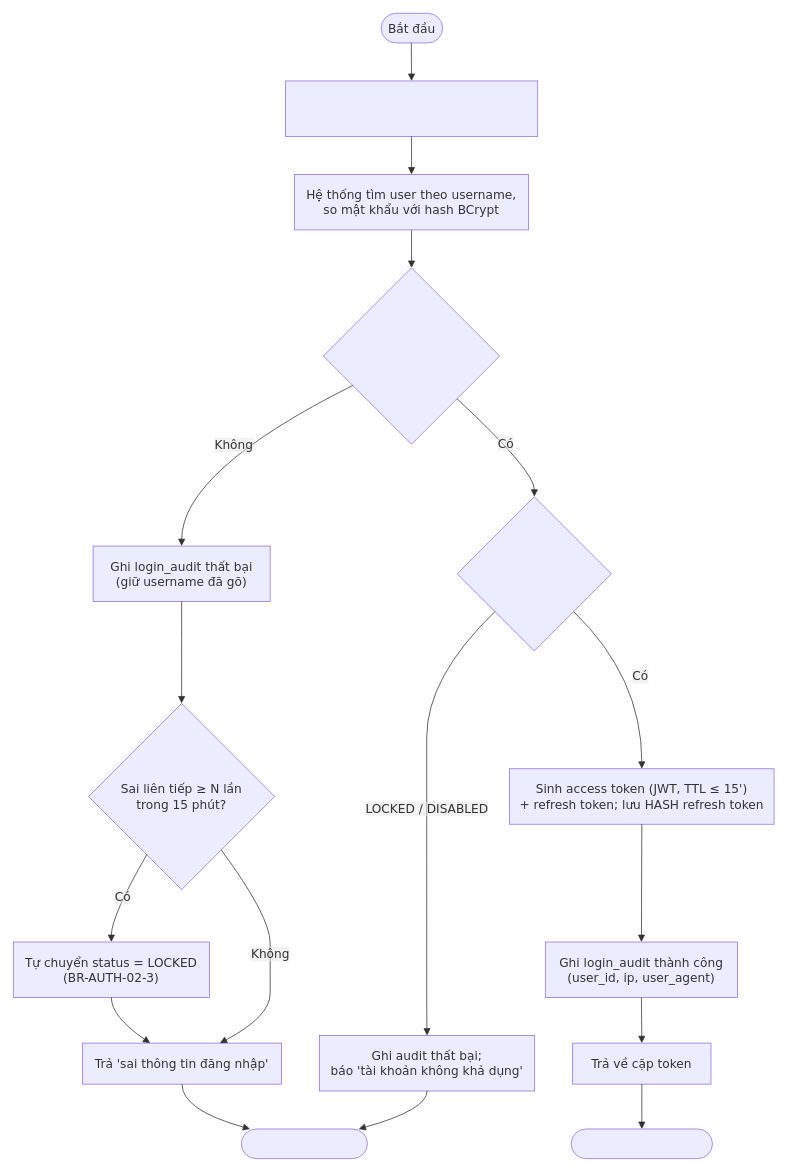
This 787x1172 diagram has some shape labels left out. The shapes that lost their labels are listed below. From the top down, each one's centre as x and y in pixels, then its label:
At pixel 411 108: "Người dùng gửi username + mật khẩu (kèm IP, user-agent)".
At pixel 411 355: "Username tồn tại và mật khẩu đúng?".
At pixel 533 573: "status = ACTIVE?".
At pixel 304 1143: "Kết thúc — thất bại".
At pixel 641 1143: "Kết thúc — thành công".
